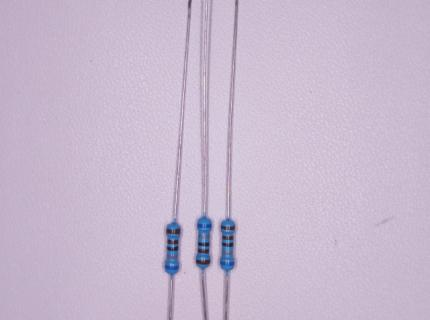Black band: (222, 242, 234, 247), (167, 246, 178, 251), (198, 242, 209, 246)
Blue band: (164, 265, 179, 270), (197, 223, 212, 228), (220, 261, 234, 266)
Brown band: (166, 228, 180, 234), (196, 259, 210, 265), (221, 225, 235, 231), (167, 239, 179, 244), (197, 249, 209, 254), (222, 236, 234, 240)
Grey band: (166, 255, 178, 259), (198, 235, 210, 239), (222, 251, 233, 255)
